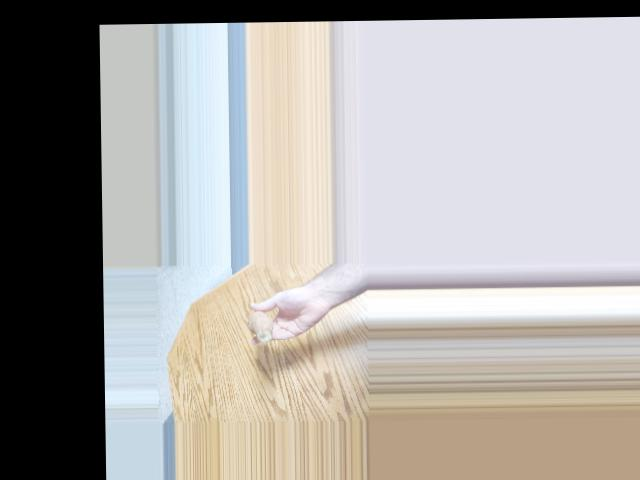sweet_potato: (237, 306, 272, 342)
